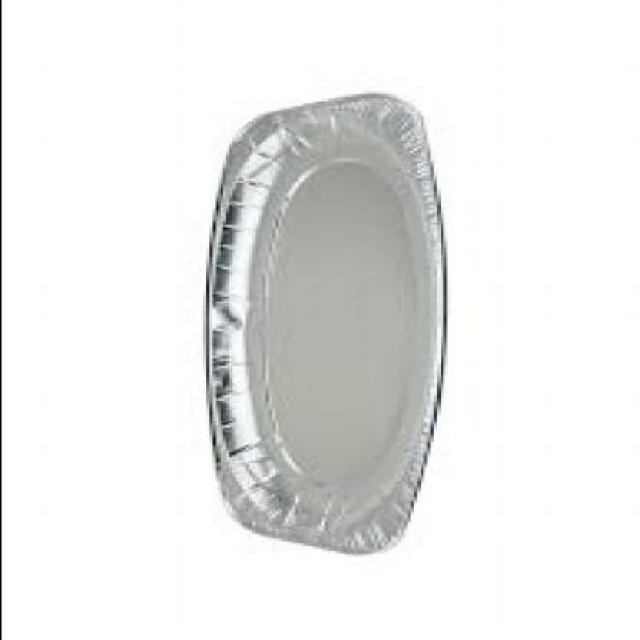METAL: (202, 89, 442, 554)
